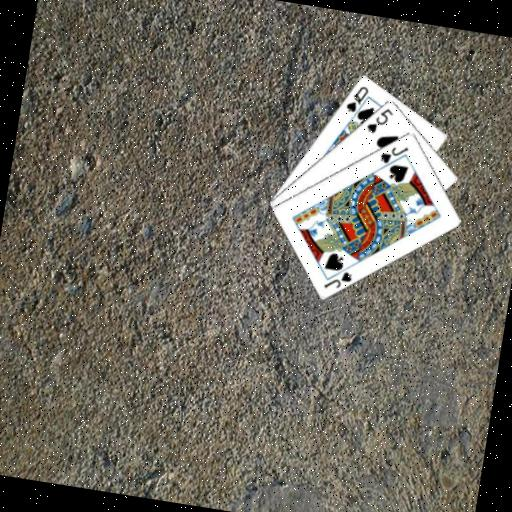5S: (362, 101, 395, 137)
JS: (376, 139, 410, 167), (320, 265, 354, 293)
QS: (342, 80, 371, 115)
